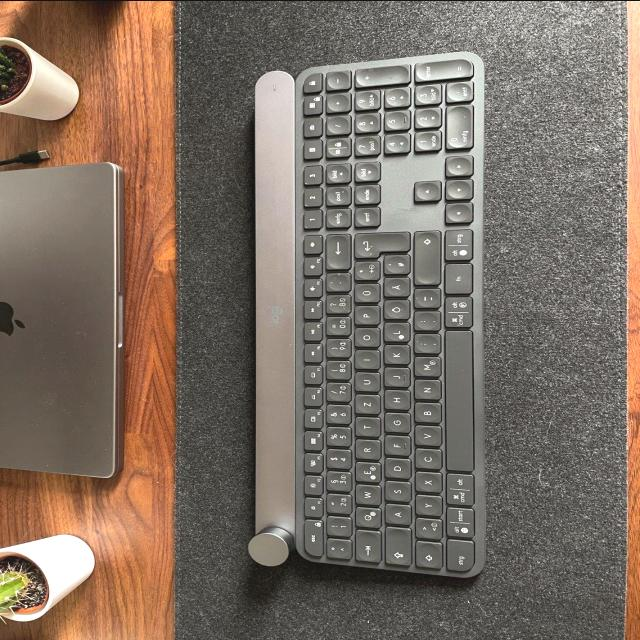0: (323, 317, 349, 337)
1: (324, 517, 350, 537)
2: (324, 495, 350, 515)
3: (324, 472, 350, 492)
4: (324, 450, 350, 470)
5: (323, 427, 349, 447)
6: (323, 405, 349, 425)
7: (323, 383, 349, 403)
8: (323, 361, 349, 381)
9: (323, 339, 349, 359)
a: (382, 505, 410, 526)
accent: (325, 272, 351, 291)
ae: (380, 278, 408, 298)
alt-left: (445, 507, 473, 537)
altgr-right: (444, 296, 473, 328)
b: (411, 403, 439, 425)
c: (412, 449, 440, 471)
caret: (325, 540, 349, 560)
comma: (411, 335, 439, 355)
d: (381, 459, 409, 479)
del: (323, 235, 349, 271)
e: (352, 463, 379, 484)
enter: (350, 231, 410, 260)
f: (381, 436, 409, 456)
g: (381, 413, 409, 434)
h: (380, 391, 408, 411)
hash: (380, 256, 408, 276)
i: (351, 351, 377, 371)
j: (380, 368, 408, 388)
k: (380, 346, 408, 366)
keyboard: (291, 51, 485, 582)
l: (380, 323, 408, 343)
less: (412, 518, 440, 540)
m: (411, 357, 439, 378)
minus: (411, 289, 438, 309)
n: (411, 380, 439, 401)
o: (351, 328, 377, 348)
oe: (380, 301, 408, 321)
p: (351, 307, 377, 326)
plus: (351, 261, 377, 281)
point: (411, 312, 438, 332)
q: (352, 507, 380, 529)
r: (352, 440, 379, 460)
s: (382, 482, 410, 502)
shift-left: (413, 543, 441, 571)
shift-lock: (382, 528, 410, 567)
shift-right: (410, 232, 438, 286)
space: (441, 331, 472, 473)
ss: (323, 295, 349, 315)
strg-left: (443, 540, 473, 575)
strg-right: (441, 229, 473, 261)
t: (352, 418, 378, 438)
tab: (352, 530, 379, 563)
u: (351, 373, 378, 393)
ue: (351, 284, 377, 304)
v: (411, 427, 439, 447)
w: (352, 486, 379, 506)
x: (412, 473, 440, 493)
y: (412, 496, 440, 517)
z: (352, 395, 378, 415)
